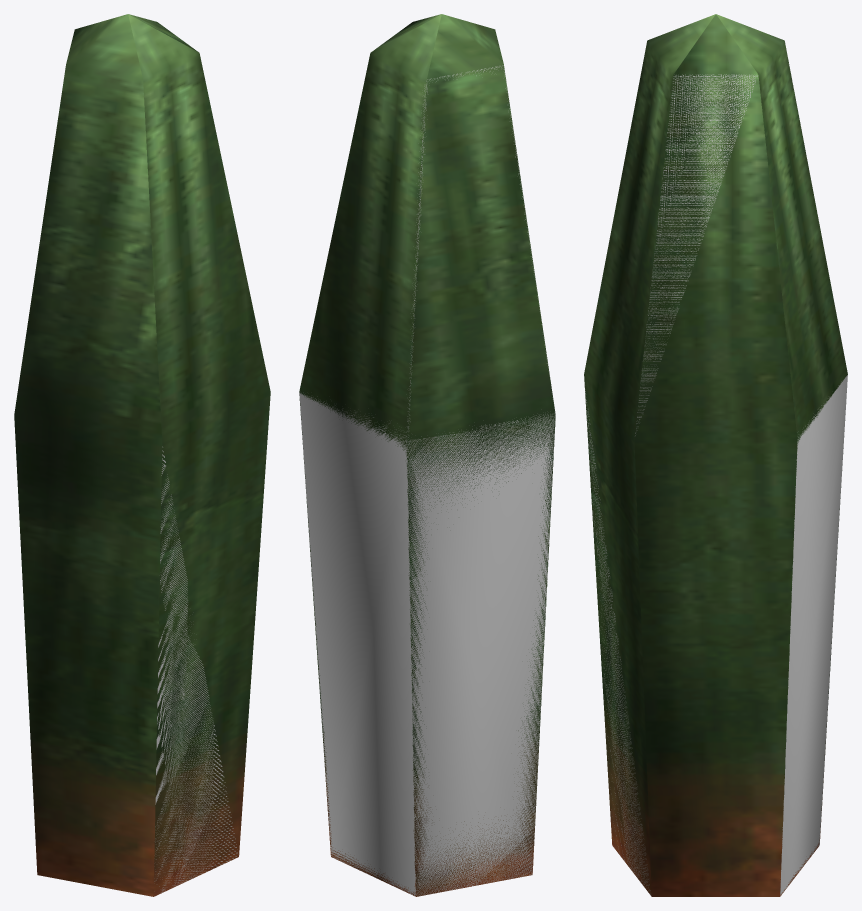
File: nafltr71.dae
The picture shows the model from 3 angles, left to right: view 1: azimuth 30°, elevation 25°; view 2: azimuth 150°, elevation 25°; view 3: azimuth 270°, elevation 25°; orthographic projection.
Visible parts, largest first — view 1: cactus1, br1; view 2: br1, cactus1, br2; view 3: cactus1, br1, br2.
Part boxes in pixels (bbox=[...]): cactus1: bbox=[14, 14, 270, 896]; br1: bbox=[154, 446, 237, 892]; br1: bbox=[299, 393, 555, 895]; cactus1: bbox=[299, 14, 555, 896]; br2: bbox=[303, 65, 555, 442]; cactus1: bbox=[584, 14, 847, 896]; br1: bbox=[585, 375, 847, 896]; br2: bbox=[635, 50, 841, 437].
Bounding box in the file's own units: 0.4058 × 0.4267 × 1.51.
Materials: 2 (1 with a texture image).
